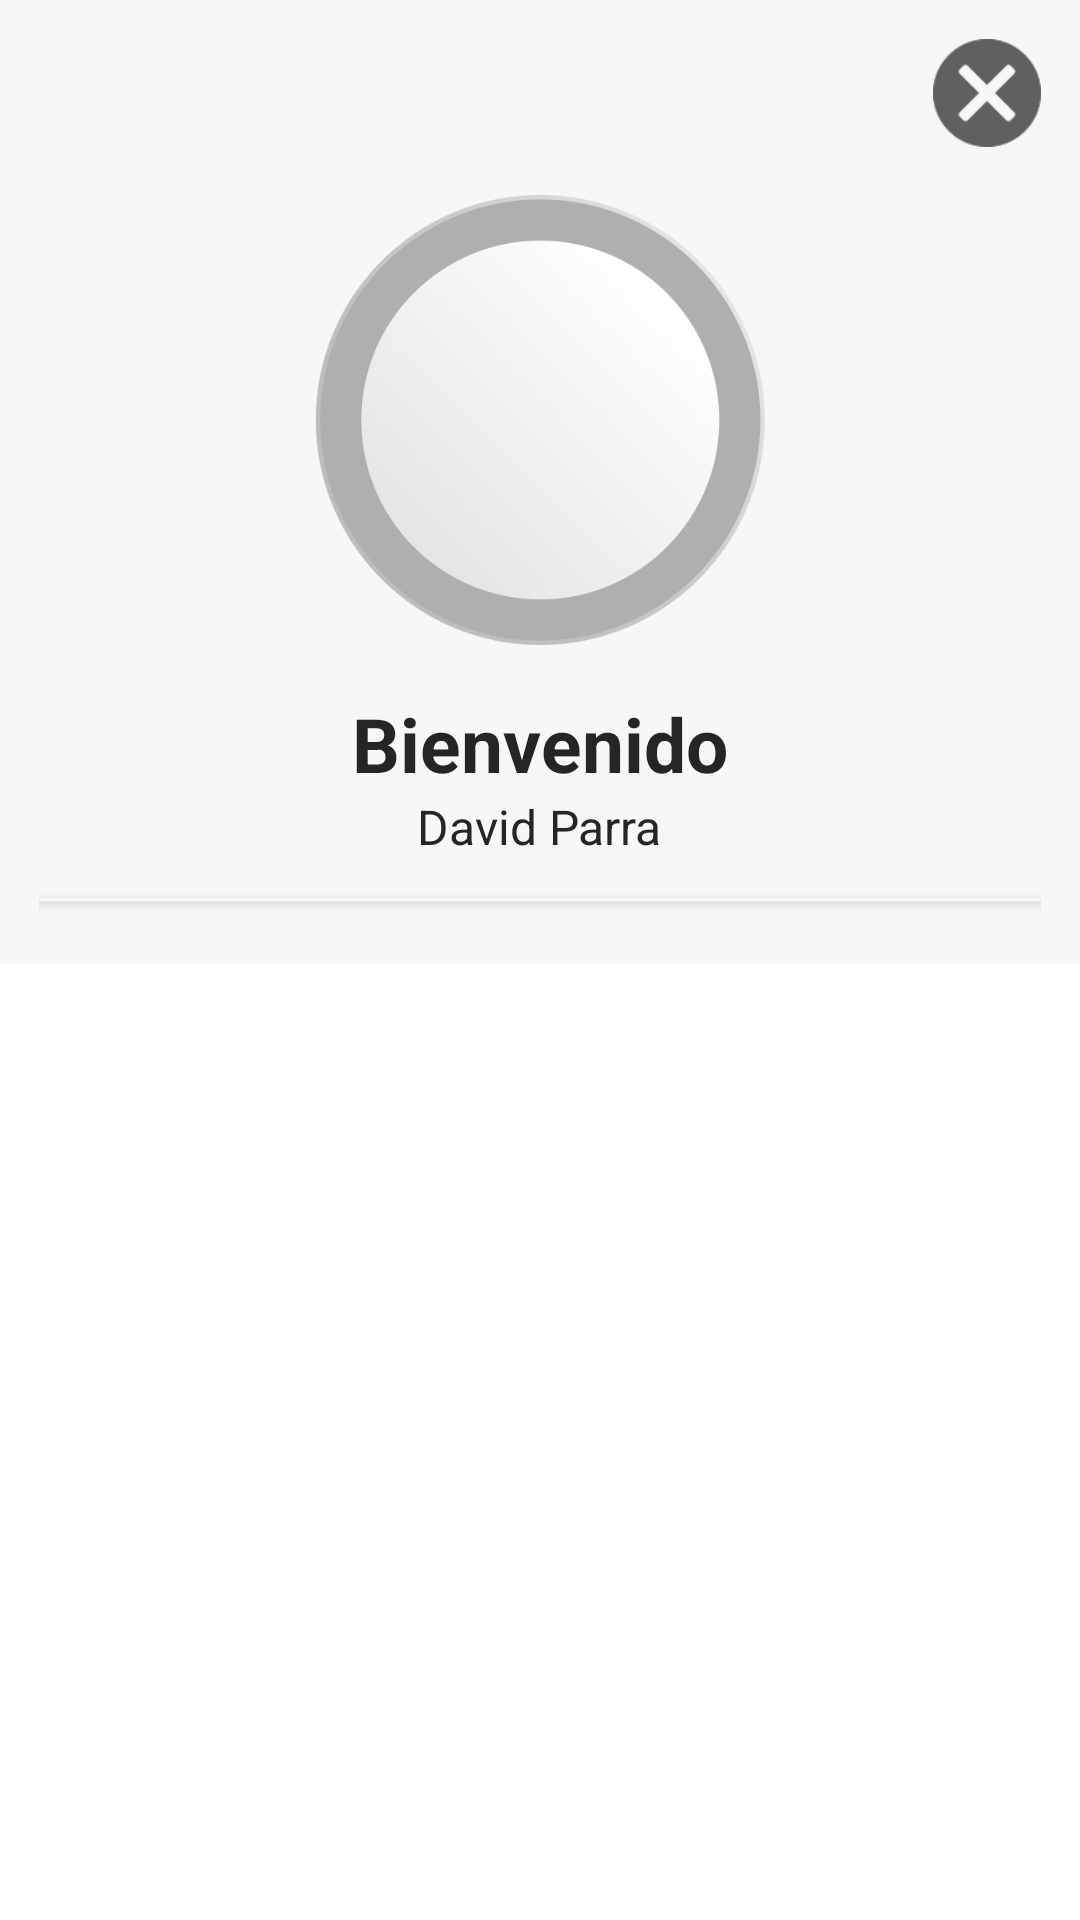

Locate icon controls on the screen. Image size 1080 x 1920, boxes as (x1, y1, x2, y2).
close: (933, 39, 1041, 147)
